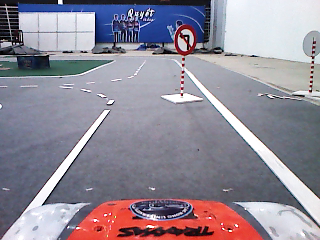ban: (174, 24, 197, 56)
